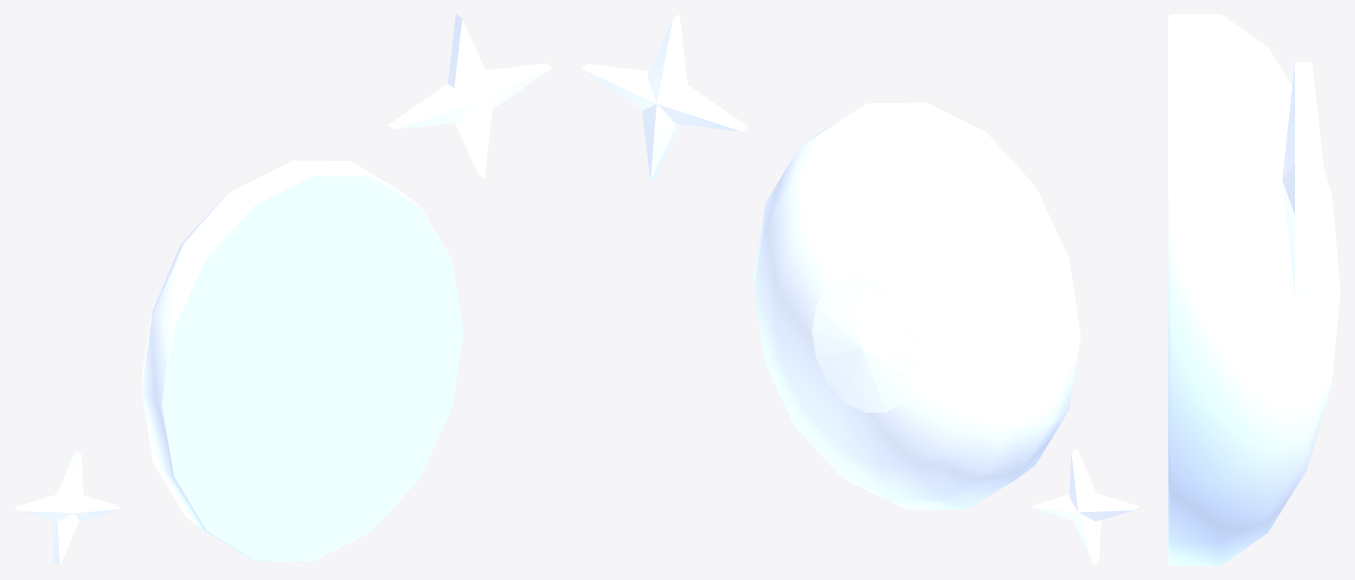
The model's file is gem_moonstone.glb.
The picture shows the model from 3 angles, left to right: view 1: azimuth 30°, elevation 25°; view 2: azimuth 150°, elevation 25°; view 3: azimuth 270°, elevation 25°; orthographic projection. The views are drawn at different scales.
Bounding box in the file's own units: 0.269 × 0.2202 × 0.056.
